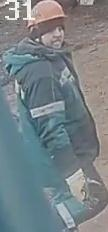gloves: (63, 167, 104, 211)
helmet: (26, 0, 68, 28)
vest: (2, 37, 96, 185)
